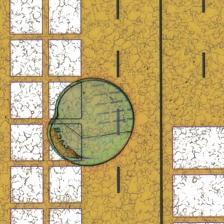COATING BAD: (47, 77, 139, 169)
